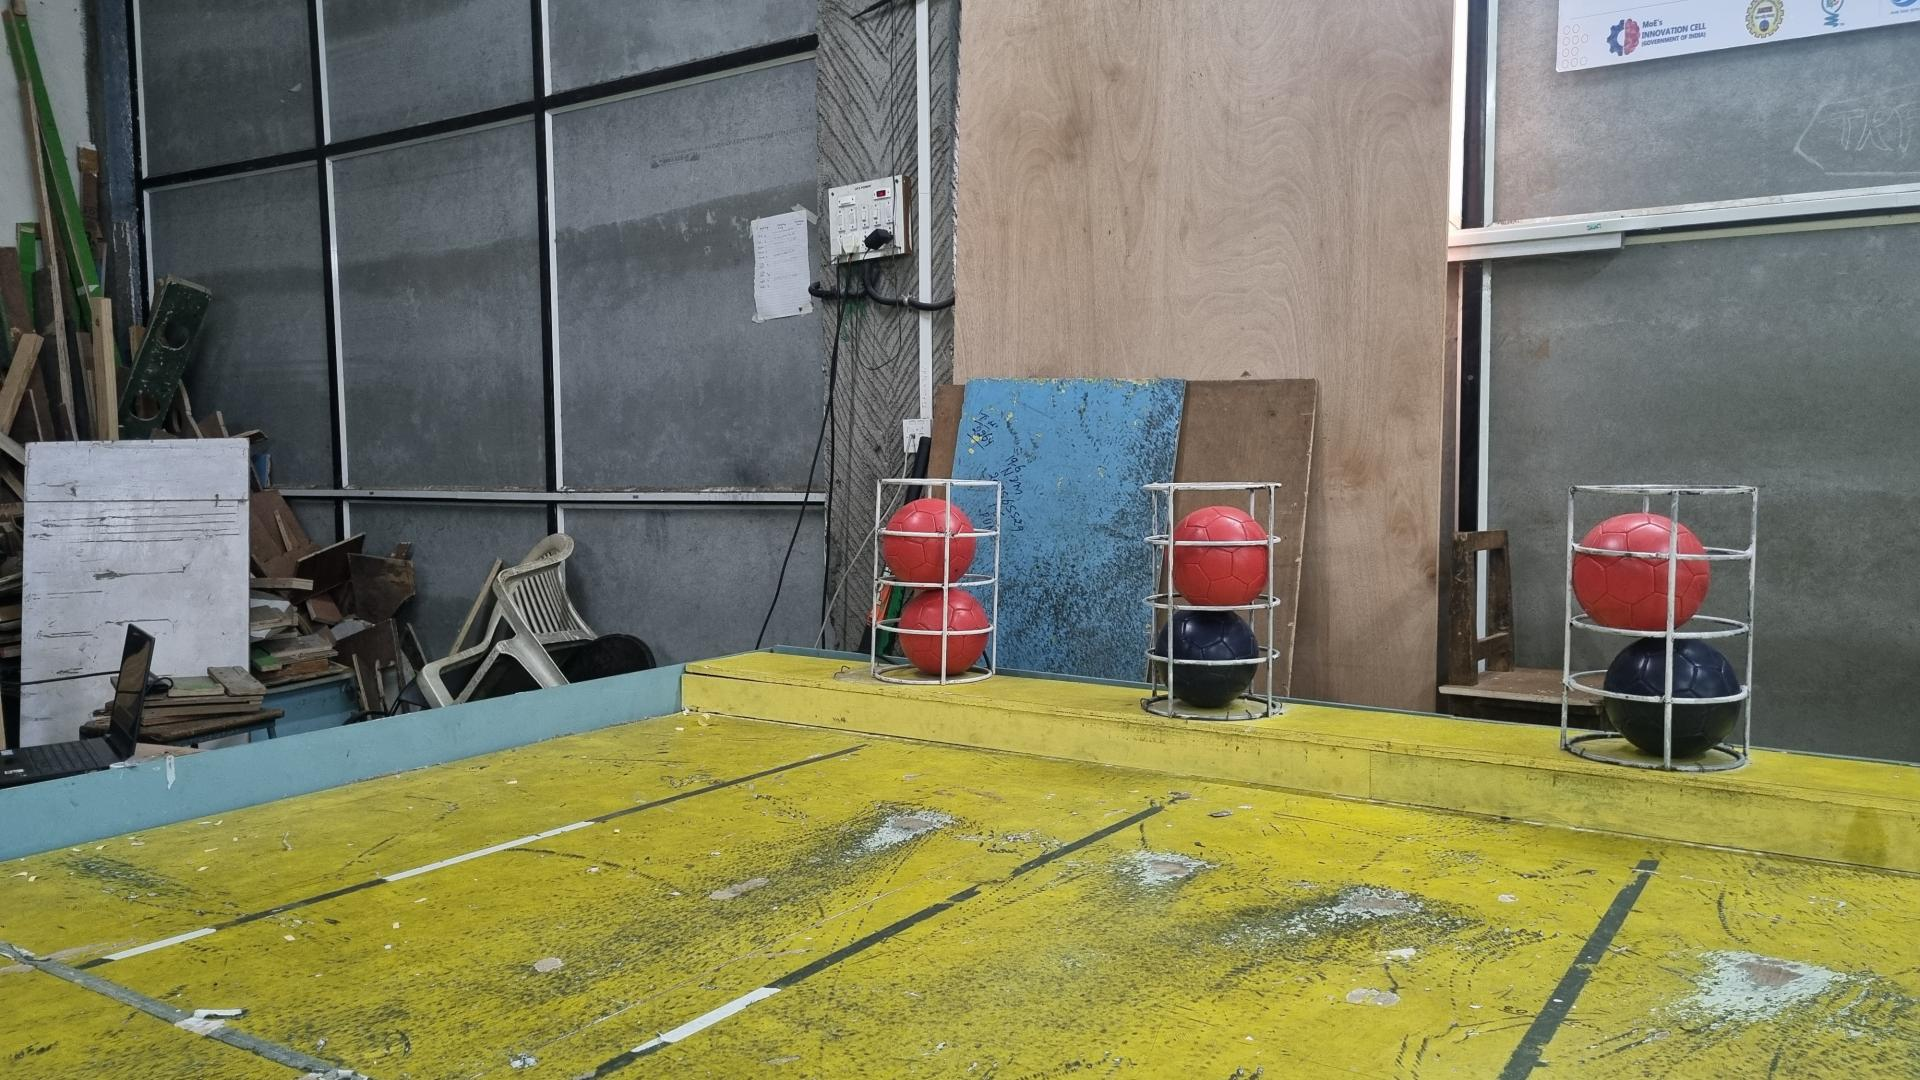dhoka: (1602, 633, 1745, 757), (1155, 609, 1259, 707)
laale: (1572, 513, 1710, 633), (1172, 506, 1266, 607), (881, 498, 975, 585), (895, 588, 989, 674)
